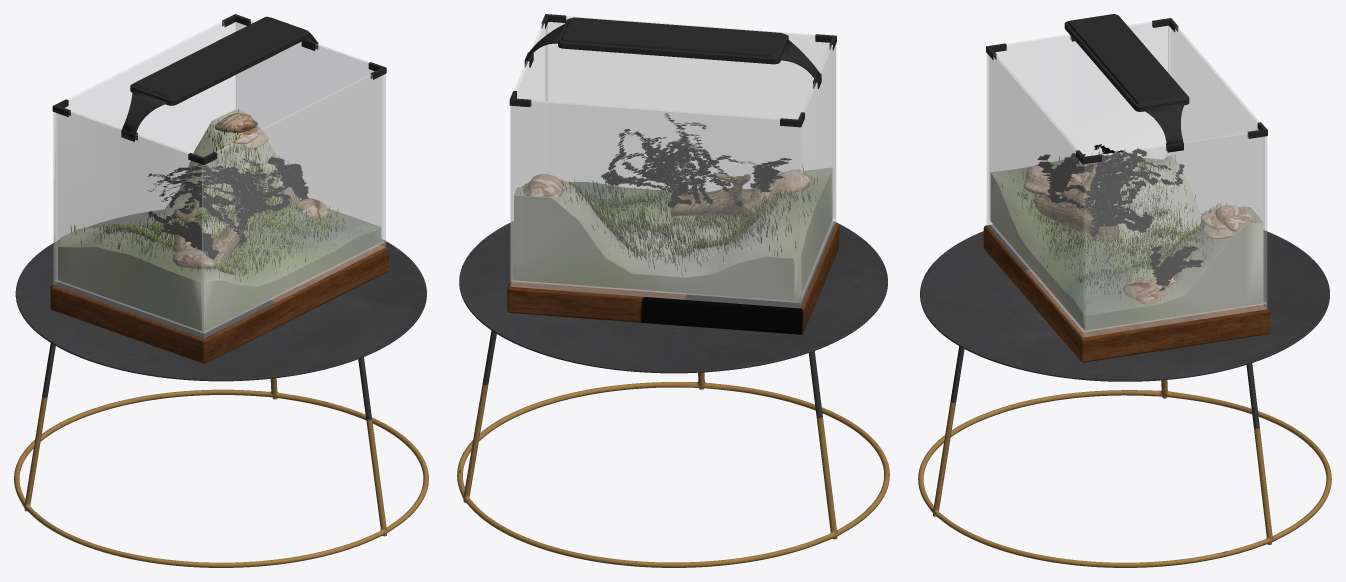
File: mesa-acuario.glb
3 views of the same model, side by side, from view 1: azimuth 30°, elevation 25°; view 2: azimuth 150°, elevation 25°; view 3: azimuth 270°, elevation 25° (orthographic). The views are drawn at different scales.
Visible parts, largest first — view 1: Cube.004, CoffeeTableNimbusGoldReplica001; view 2: Cube.004, CoffeeTableNimbusGoldReplica001; view 3: Cube.004, CoffeeTableNimbusGoldReplica001.
Part boxes in pixels (left/top/right/bottom): Cube.004: left=50, top=14, right=388, bottom=363; CoffeeTableNimbusGoldReplica001: left=14, top=210, right=428, bottom=567; Cube.004: left=507, top=14, right=839, bottom=334; CoffeeTableNimbusGoldReplica001: left=457, top=191, right=889, bottom=567; Cube.004: left=983, top=14, right=1270, bottom=362; CoffeeTableNimbusGoldReplica001: left=918, top=214, right=1331, bottom=567.
Bounding box in the file's own units: 0.7184 × 0.8123 × 0.7183.
Materials: 13 (10 with a texture image).
